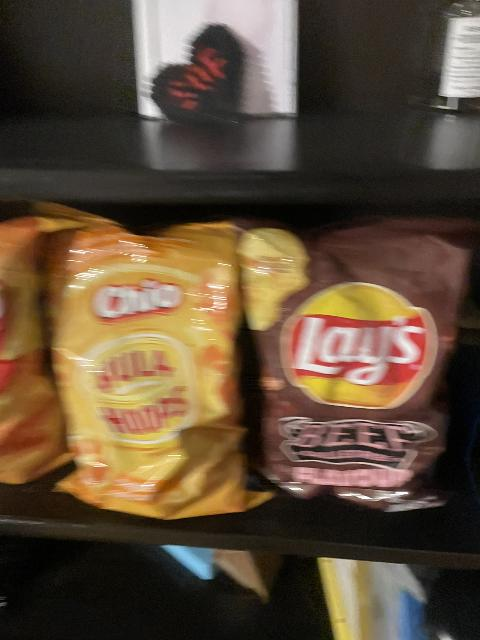Chio Cascaval 125g: (0, 213, 79, 484)
Chio Hula Hoops Cheese 70g: (40, 220, 271, 516)
Lays Beef Grilled Ribs 125g: (232, 219, 471, 507)
